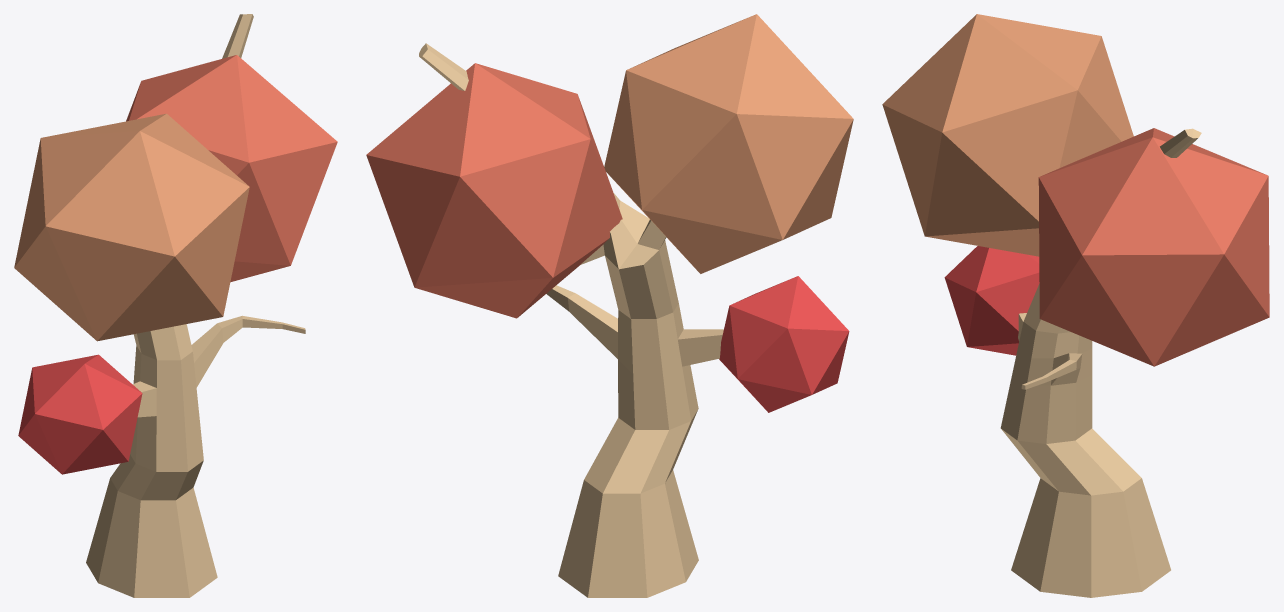
Rendered from 01_05Tree_Red.fbx.
3 views of the same model, side by side, from view 1: azimuth 30°, elevation 25°; view 2: azimuth 150°, elevation 25°; view 3: azimuth 270°, elevation 25° (orthographic). The views are drawn at different scales.
Parts seen in each view (by area): view 1: Cube.014; view 2: Cube.014; view 3: Cube.014.
Boxes of the visible parts, left/top/right/bottom form: Cube.014: left=14, top=14, right=337, bottom=597; Cube.014: left=366, top=14, right=853, bottom=597; Cube.014: left=882, top=14, right=1269, bottom=597.
Bounding box in the file's own units: 184 × 253 × 170.
